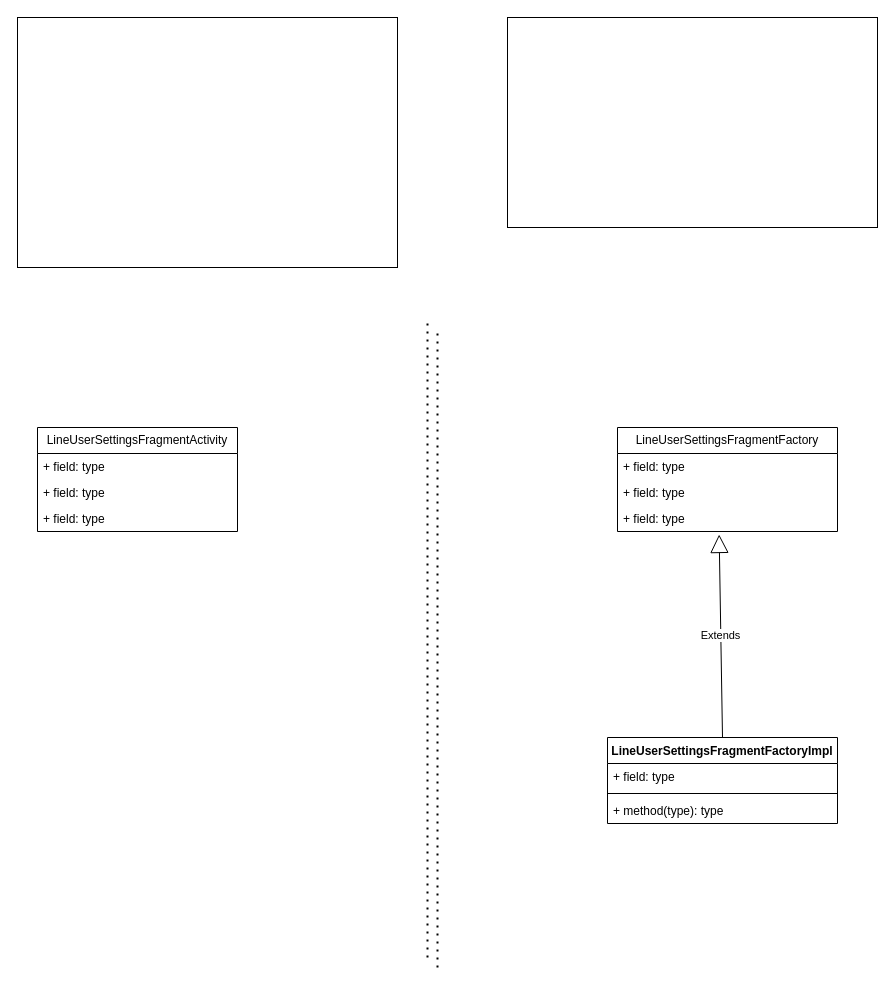
The diagram is 895 pixels wide and 987 high, and some of its shapes have lost their labels. The centre of each missing label's shape, as x and y in pixels:
app: the point at 207,142
settings-api: the point at 692,122
